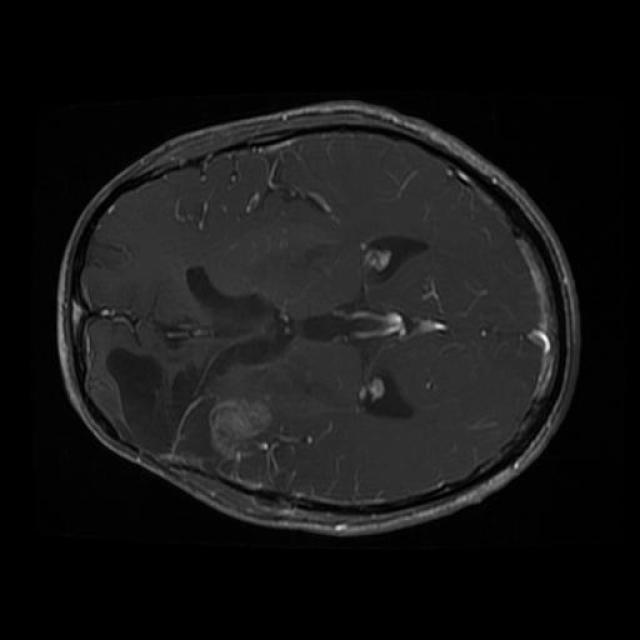Glioma: (106, 345, 201, 454), (180, 421, 208, 453)
